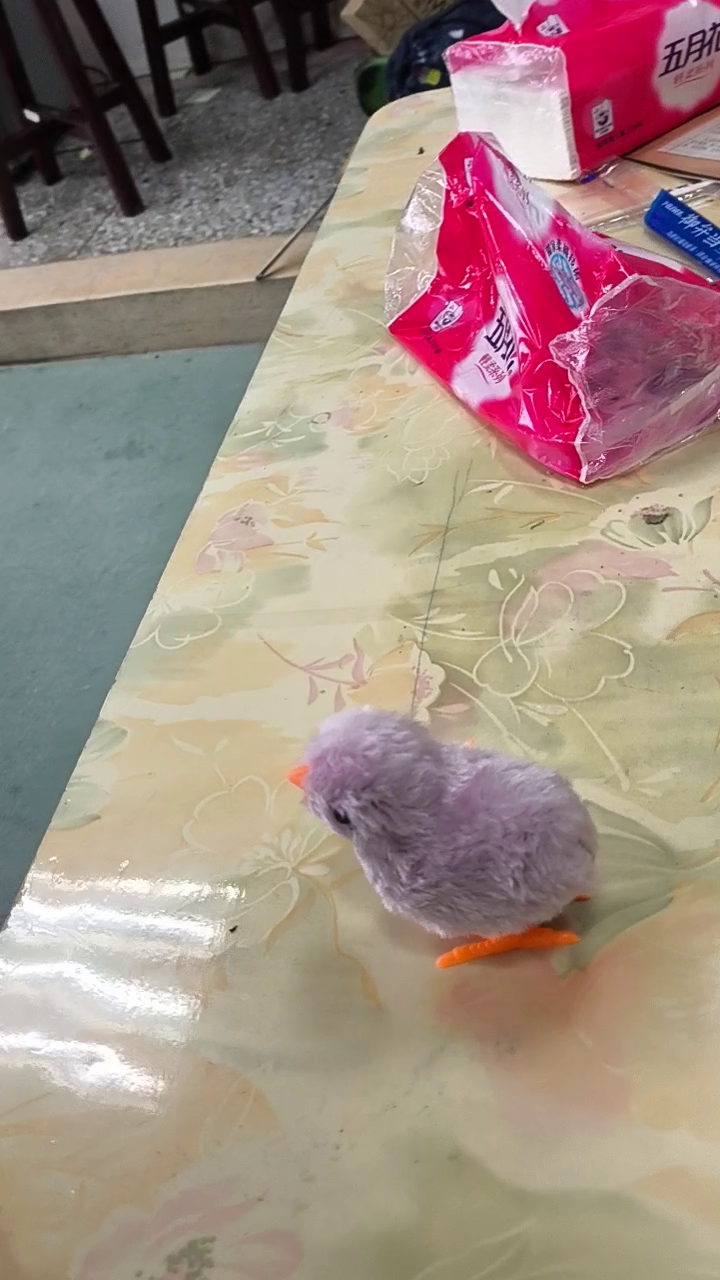pink chicken: (283, 700, 605, 973)
